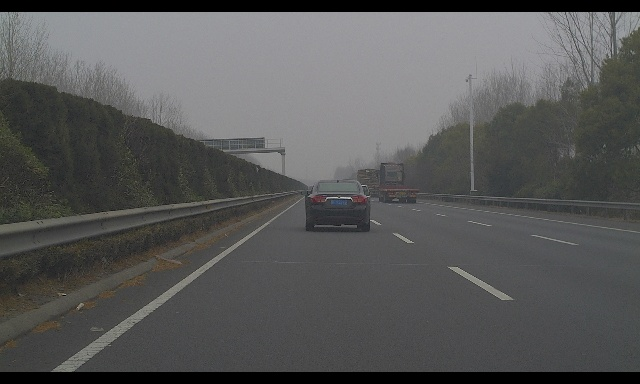car: (301, 179, 371, 232)
truck: (376, 162, 419, 203), (351, 168, 383, 197)
